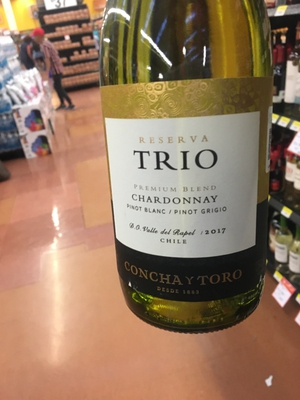trio chardonnay: (96, 7, 278, 320)
